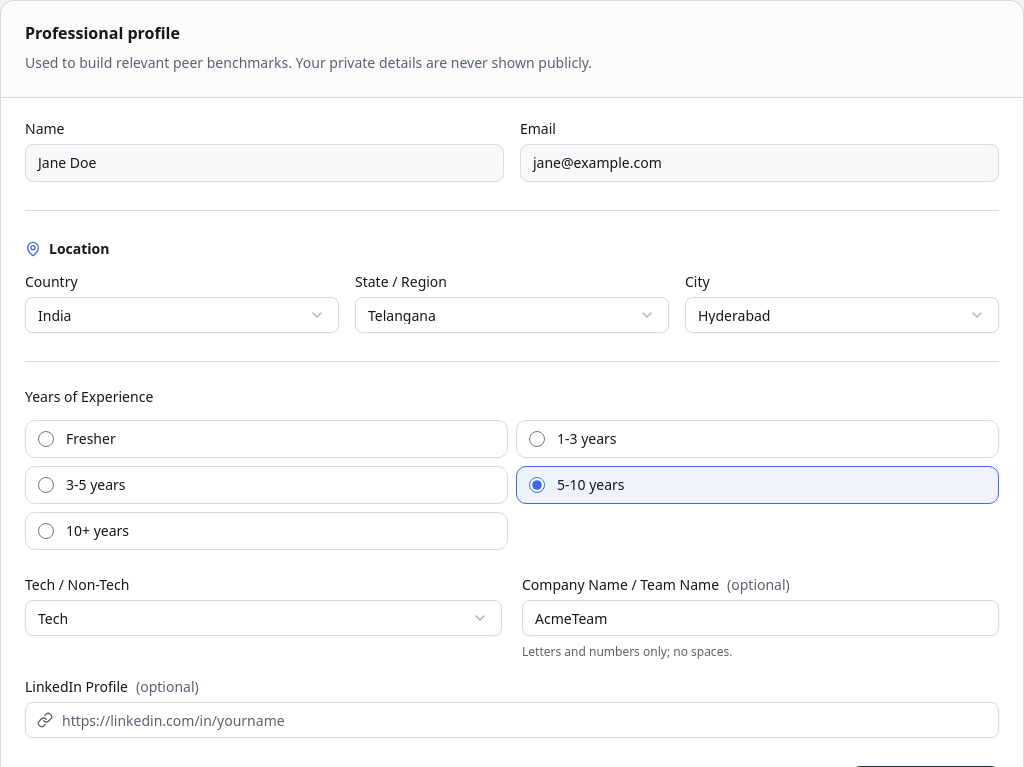
ProfileEditForm › renders the optional company/team name and sanitizes edits
Type "New Team!_42" into the field labelled "Company Name / Team Name (optional)" at (760, 618), box [522,600,999,636]
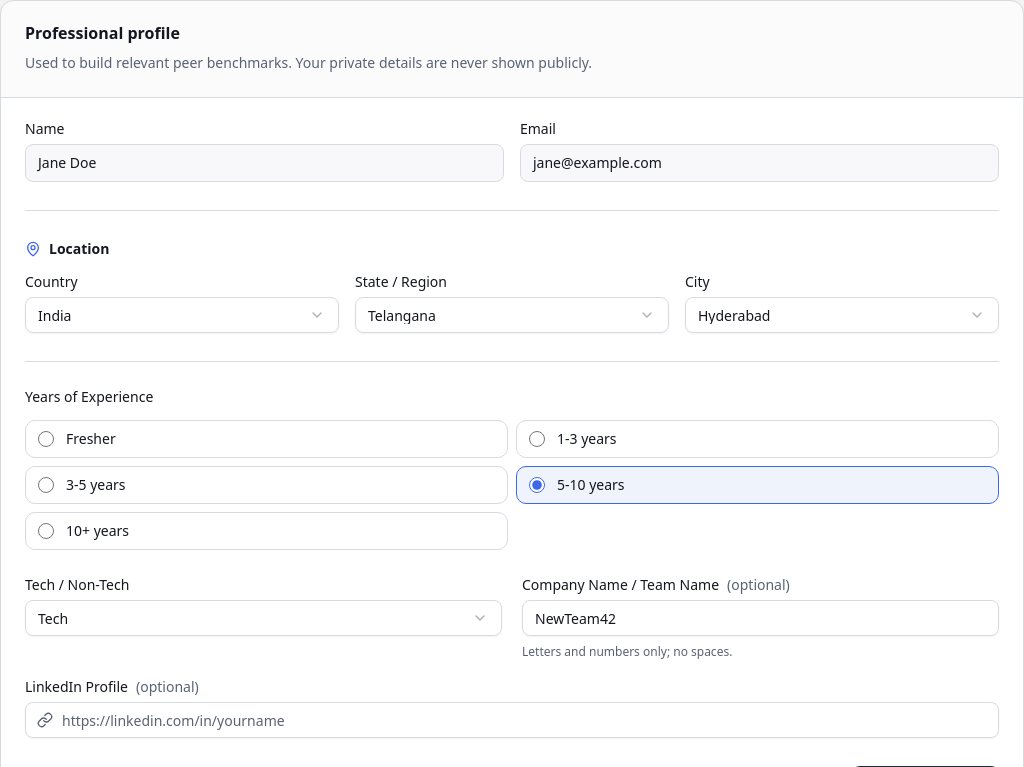
Now the field labelled "Company Name / Team Name (optional)" holds "NewTeam42", box [522,600,999,636]
